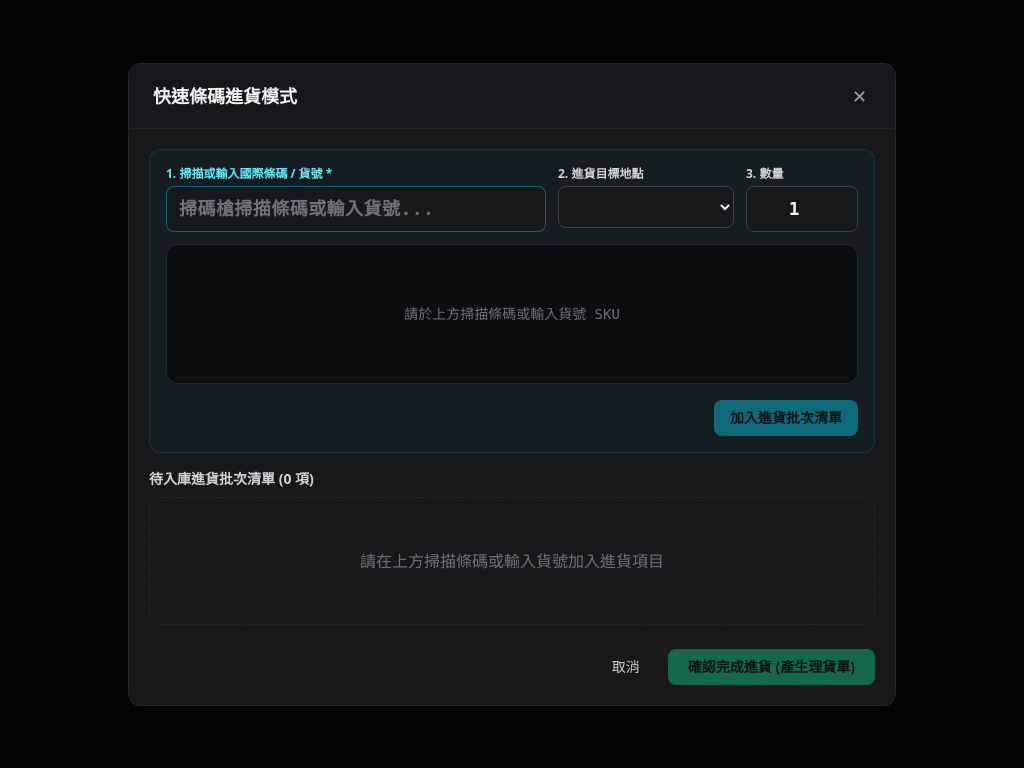
Test case: RestockModal 商品搜尋 › adds the scanned barcode, not the stale results, when Enter beats the debounce
Step 1. Type "OLD-1" into the field with placeholder "掃碼槍掃描條碼或輸入貨號..." → (356, 208), box [166,186,546,232]
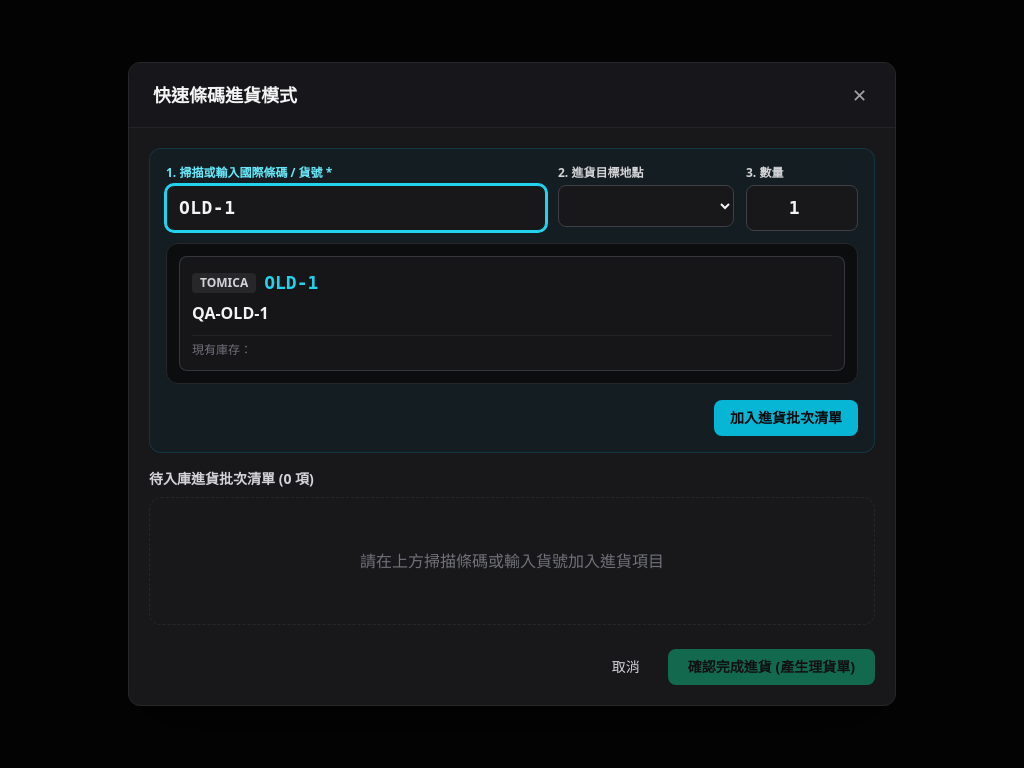
Result: the text "QA-OLD-1" is shown at [192,302,268,324]
Step 2. Replace the text in the field with placeholder "掃碼槍掃描條碼或輸入貨號..." with "4710000000028" → (356, 208), box [166,185,546,231]
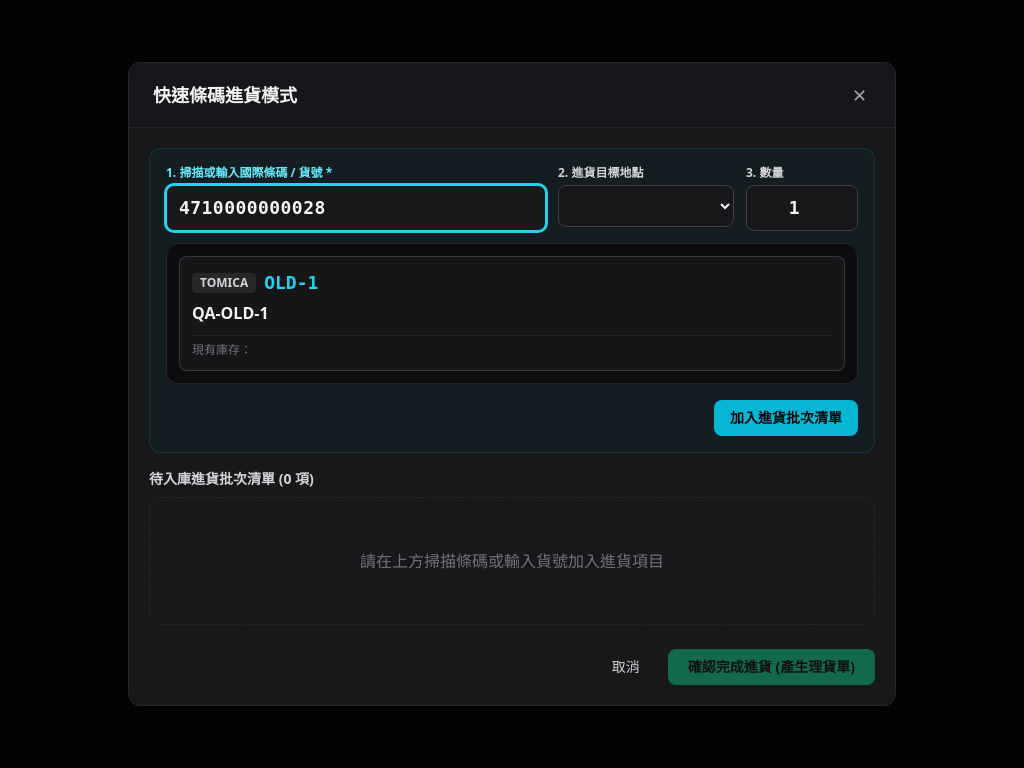
Step 3. Press Enter in the field with placeholder "掃碼槍掃描條碼或輸入貨號...", box [166,185,546,231]
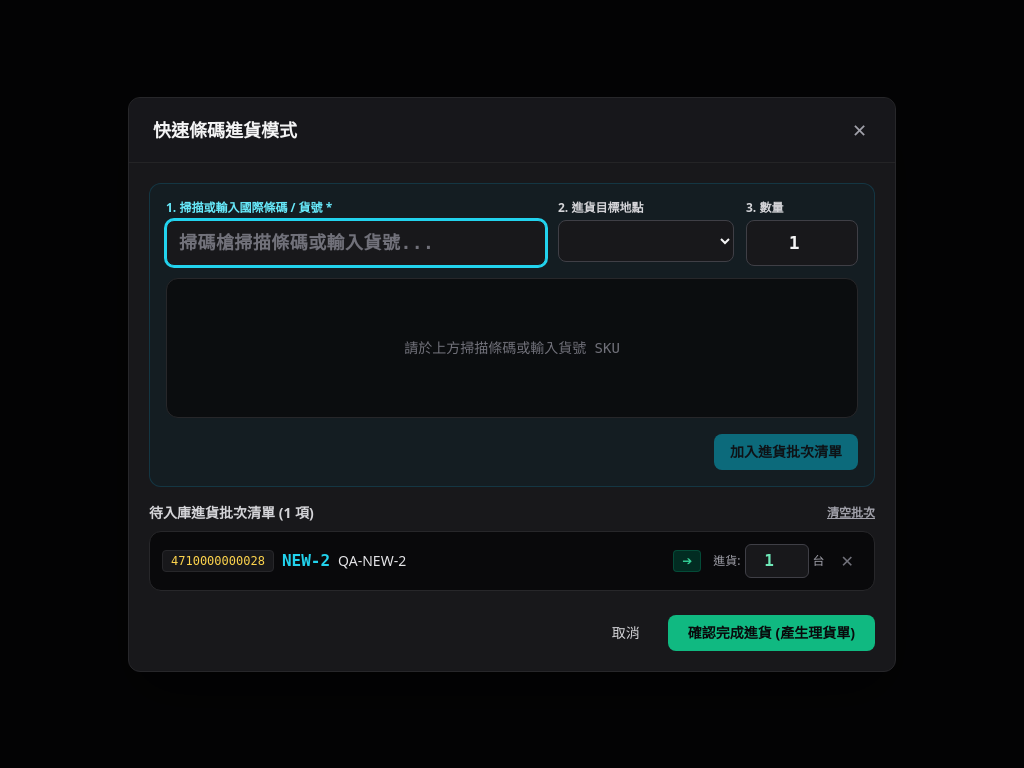
Result: the text "待入庫進貨批次清單 (1 項)" is shown at [149,502,314,522]
Result: the field with placeholder "掃碼槍掃描條碼或輸入貨號..." is empty at [166,220,546,266]
